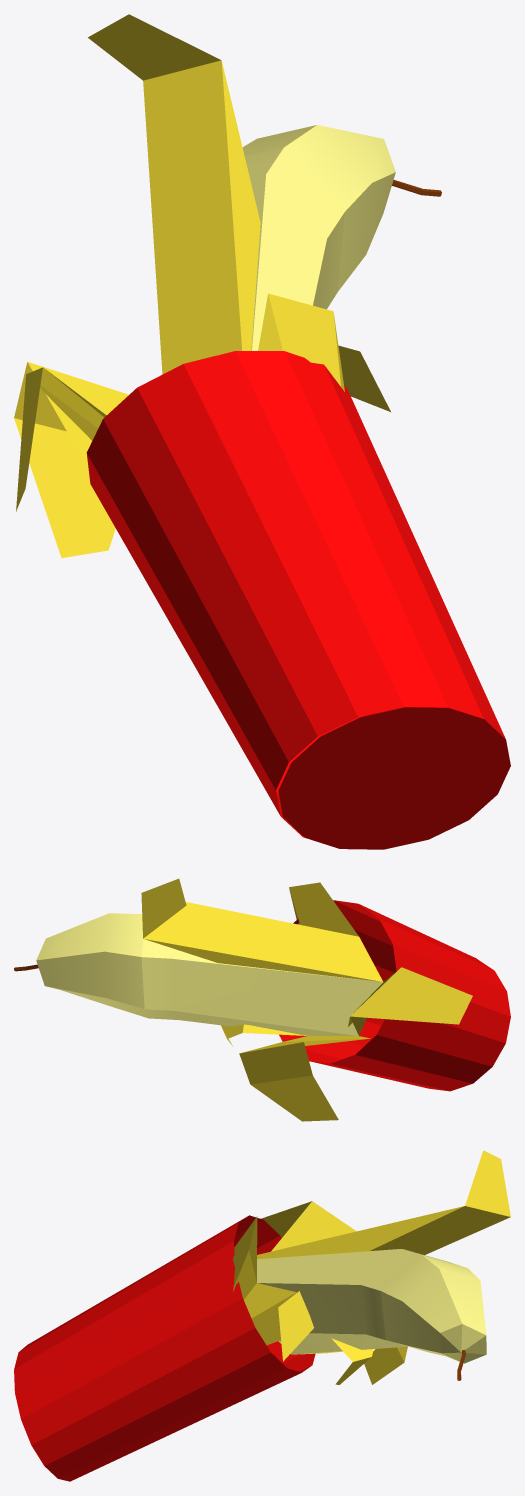
File: boomnana_withanim.fbx
The picture shows the model from 3 angles, top to bottom: view 1: azimuth 30°, elevation 25°; view 2: azimuth 150°, elevation 25°; view 3: azimuth 270°, elevation 25°; orthographic projection. The views are drawn at different scales.
Parts seen in each view (by area): view 1: halfDinamite, banana, bottomDinamite; view 2: banana, halfDinamite; view 3: halfDinamite, banana.
Part boxes in pixels (x1=…): halfDinamite: x1=86, y1=351, x2=510, y2=843; banana: x1=14, y1=14, x2=395, y2=557; bottomDinamite: x1=278, y1=707, x2=510, y2=849; banana: x1=36, y1=878, x2=472, y2=1121; halfDinamite: x1=279, y1=900, x2=510, y2=1091; halfDinamite: x1=14, y1=1215, x2=315, y2=1481; banana: x1=233, y1=1150, x2=510, y2=1384.
Size of the model in its own units: 1.14 by 1.06 by 1.38.
